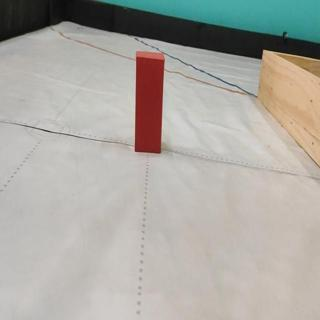redbox: (135, 50, 165, 154)
